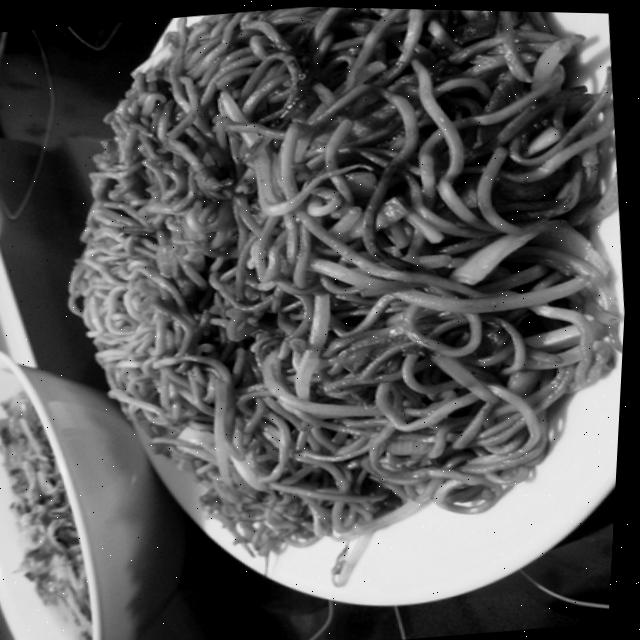面条主食: (48, 1, 635, 595)
